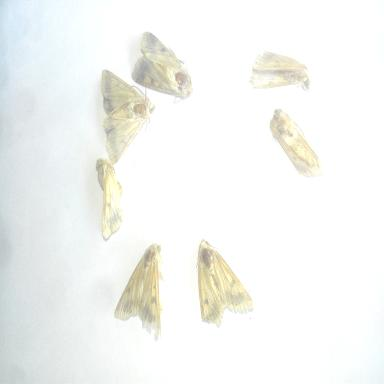abw: (97, 64, 159, 168), (193, 234, 256, 332), (110, 240, 169, 344), (127, 23, 200, 107), (268, 105, 326, 183), (246, 43, 318, 96), (90, 152, 130, 246)
